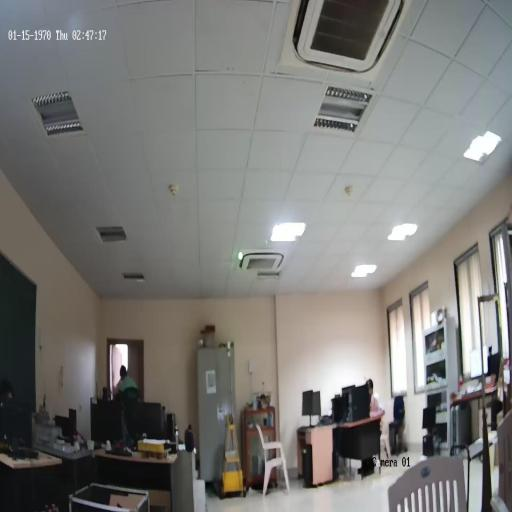laser: (238, 250, 244, 262)
